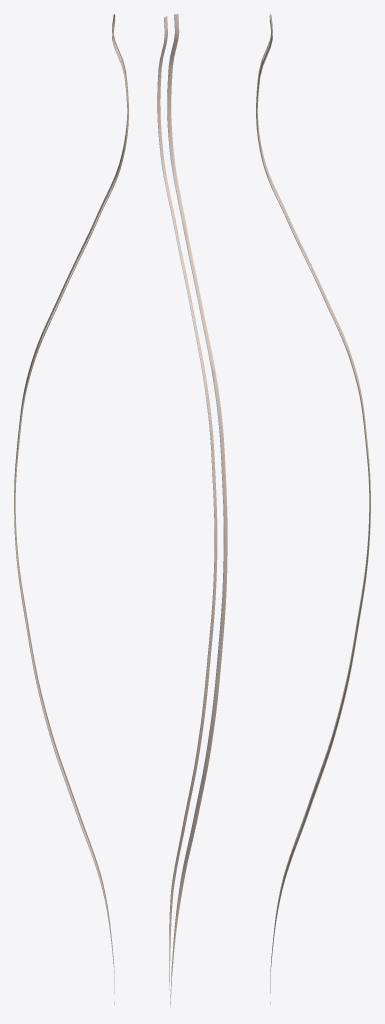
File: nervoso-anterior-spinothalamic-tract.glb
3 views of the same model, side by side, from view 1: azimuth 90°, elevation 25°; view 2: azimuth 210°, elevation 25°; view 3: azimuth 270°, elevation 25° (orthographic).
Parts seen in each view (by area): view 1: Anterior spinothalamic tract; view 2: Anterior spinothalamic tract; view 3: Anterior spinothalamic tract.
Part boxes in pixels (x1,y1,x2,y2): Anterior spinothalamic tract: [14, 14, 128, 1005]; Anterior spinothalamic tract: [157, 14, 227, 1007]; Anterior spinothalamic tract: [256, 14, 370, 1004].
Size of the model in its own units: 0.00743 by 0.4889 by 0.0513.
